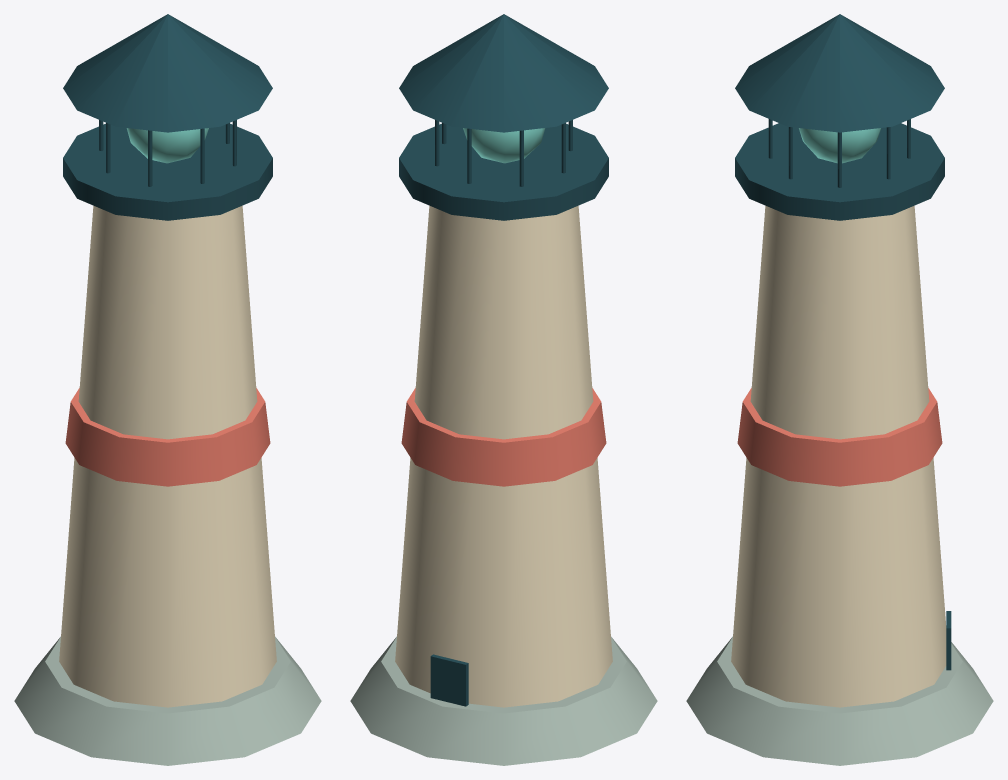
Rendered from lighthouse-unlit.glb.
The picture shows the model from 3 angles, left to right: view 1: azimuth 30°, elevation 25°; view 2: azimuth 150°, elevation 25°; view 3: azimuth 270°, elevation 25°; orthographic projection.
Parts seen in each view (by area): view 1: lighthouse-tower, tower-foundation, lantern-roof, lantern-balcony, tower-band, keeper-lens; view 2: lighthouse-tower, tower-foundation, lantern-roof, lantern-balcony, tower-band, keeper-lens, lighthouse-door; view 3: lighthouse-tower, tower-foundation, lantern-roof, lantern-balcony, tower-band, keeper-lens.
Boxes of the visible parts, <box> form: lighthouse-tower: <box>59,205,276,707</box>; tower-foundation: <box>14,636,321,765</box>; lantern-roof: <box>63,14,272,132</box>; lantern-balcony: <box>63,123,272,220</box>; tower-band: <box>65,388,270,486</box>; keeper-lens: <box>126,128,208,163</box>; lighthouse-tower: <box>395,205,612,707</box>; tower-foundation: <box>350,636,657,765</box>; lantern-roof: <box>399,14,608,132</box>; lantern-balcony: <box>399,123,608,220</box>; tower-band: <box>401,388,606,486</box>; keeper-lens: <box>463,128,545,163</box>; lighthouse-door: <box>430,654,468,706</box>; lighthouse-tower: <box>731,205,946,707</box>; tower-foundation: <box>686,636,993,765</box>; lantern-roof: <box>735,14,944,132</box>; lantern-balcony: <box>735,123,944,220</box>; tower-band: <box>737,388,942,486</box>; keeper-lens: <box>799,128,880,163</box>.
Bounding box in the file's own units: 12 × 29.6 × 12.
